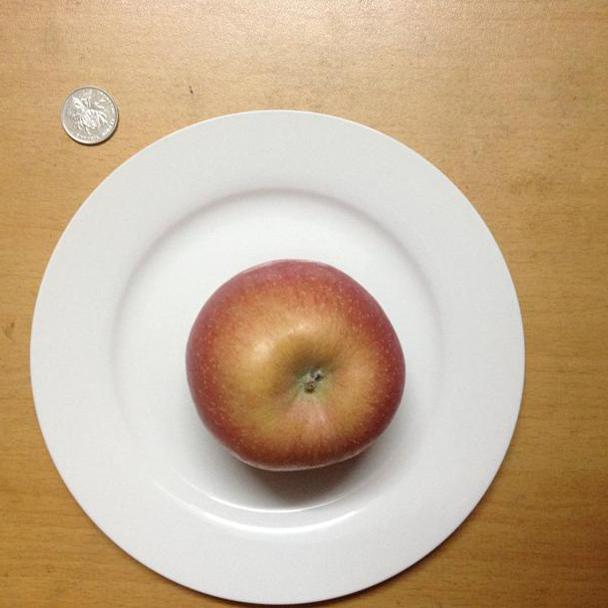apple: (186, 260, 406, 470)
